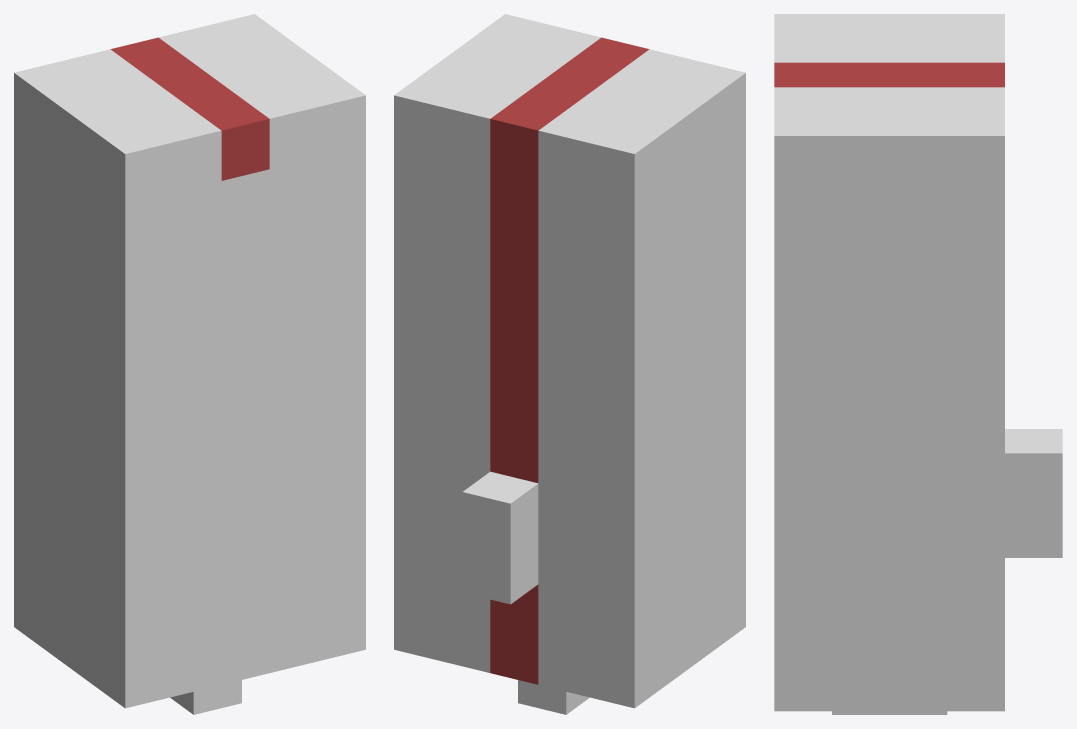
Rendered from Toilet2-1.fbx.
3 renders of one model, left to right at view 1: azimuth 30°, elevation 25°; view 2: azimuth 150°, elevation 25°; view 3: azimuth 270°, elevation 25°, orthographic. The views are drawn at different scales.
Visible parts, largest first — view 1: Toilet2-1; view 2: Toilet2-1; view 3: Toilet2-1.
Boxes of the visible parts, x1,y1,x2,y2 form: Toilet2-1: (14,14,365,714); Toilet2-1: (394,14,745,714); Toilet2-1: (774,14,1062,714).
Size of the model in its own units: 0.5 by 1.2 by 0.5.
